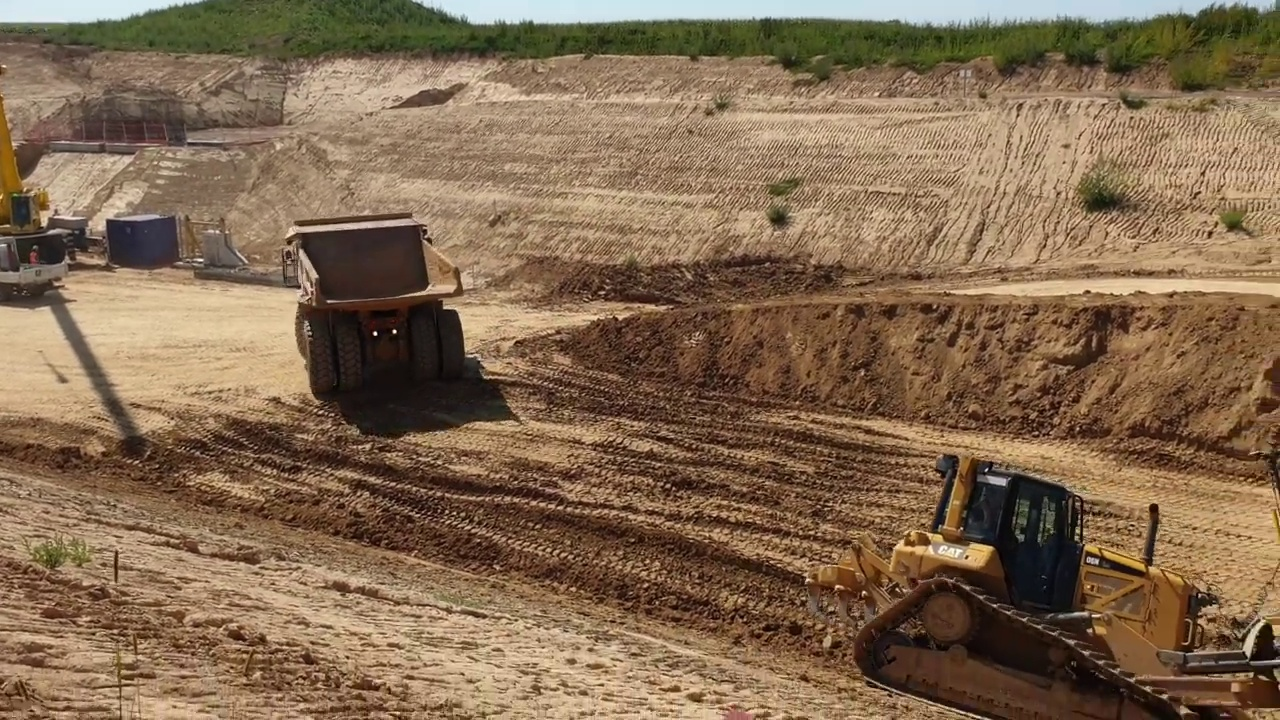bulldozer: (801, 440, 1280, 718)
crane: (1, 53, 80, 299)
truck: (276, 206, 478, 403)
